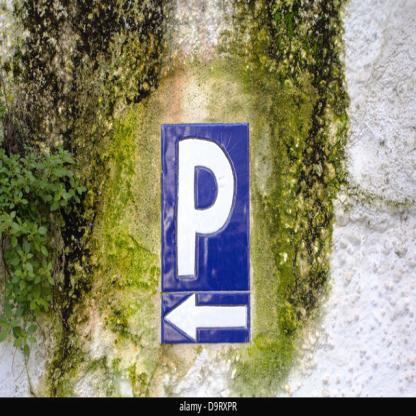Parking: (156, 121, 248, 294)
